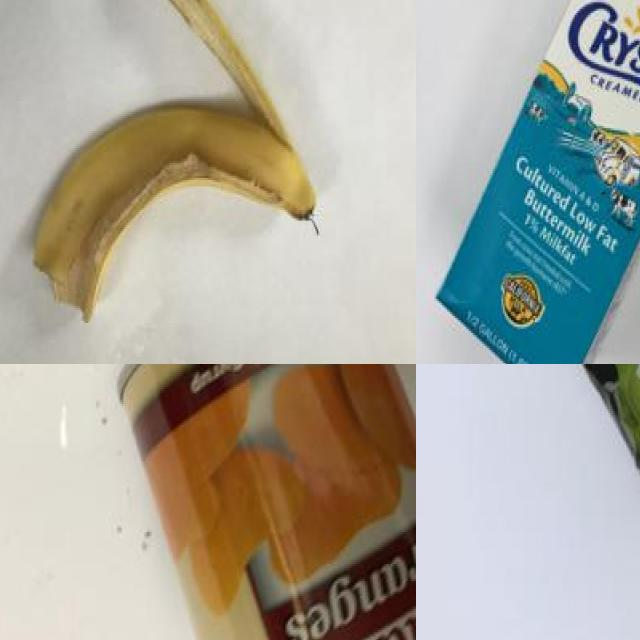compost: (0, 0, 339, 325)
paper: (436, 0, 640, 364)
plastic: (114, 364, 416, 640), (514, 364, 640, 640)
